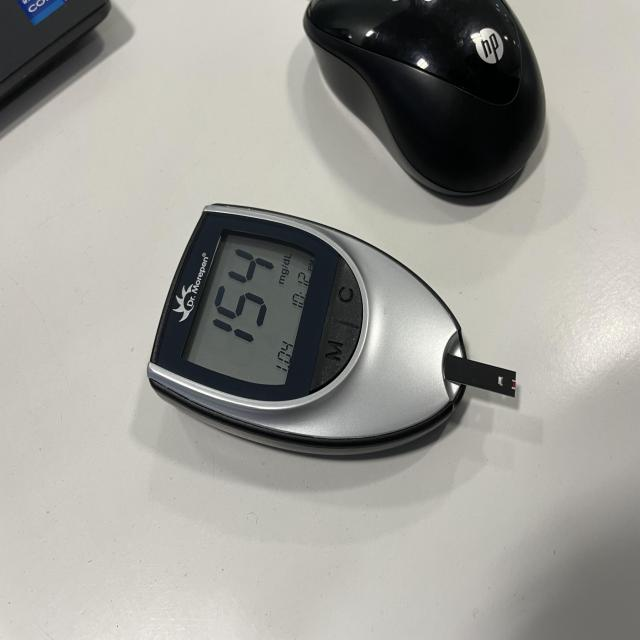gluco: (146, 206, 518, 463)
